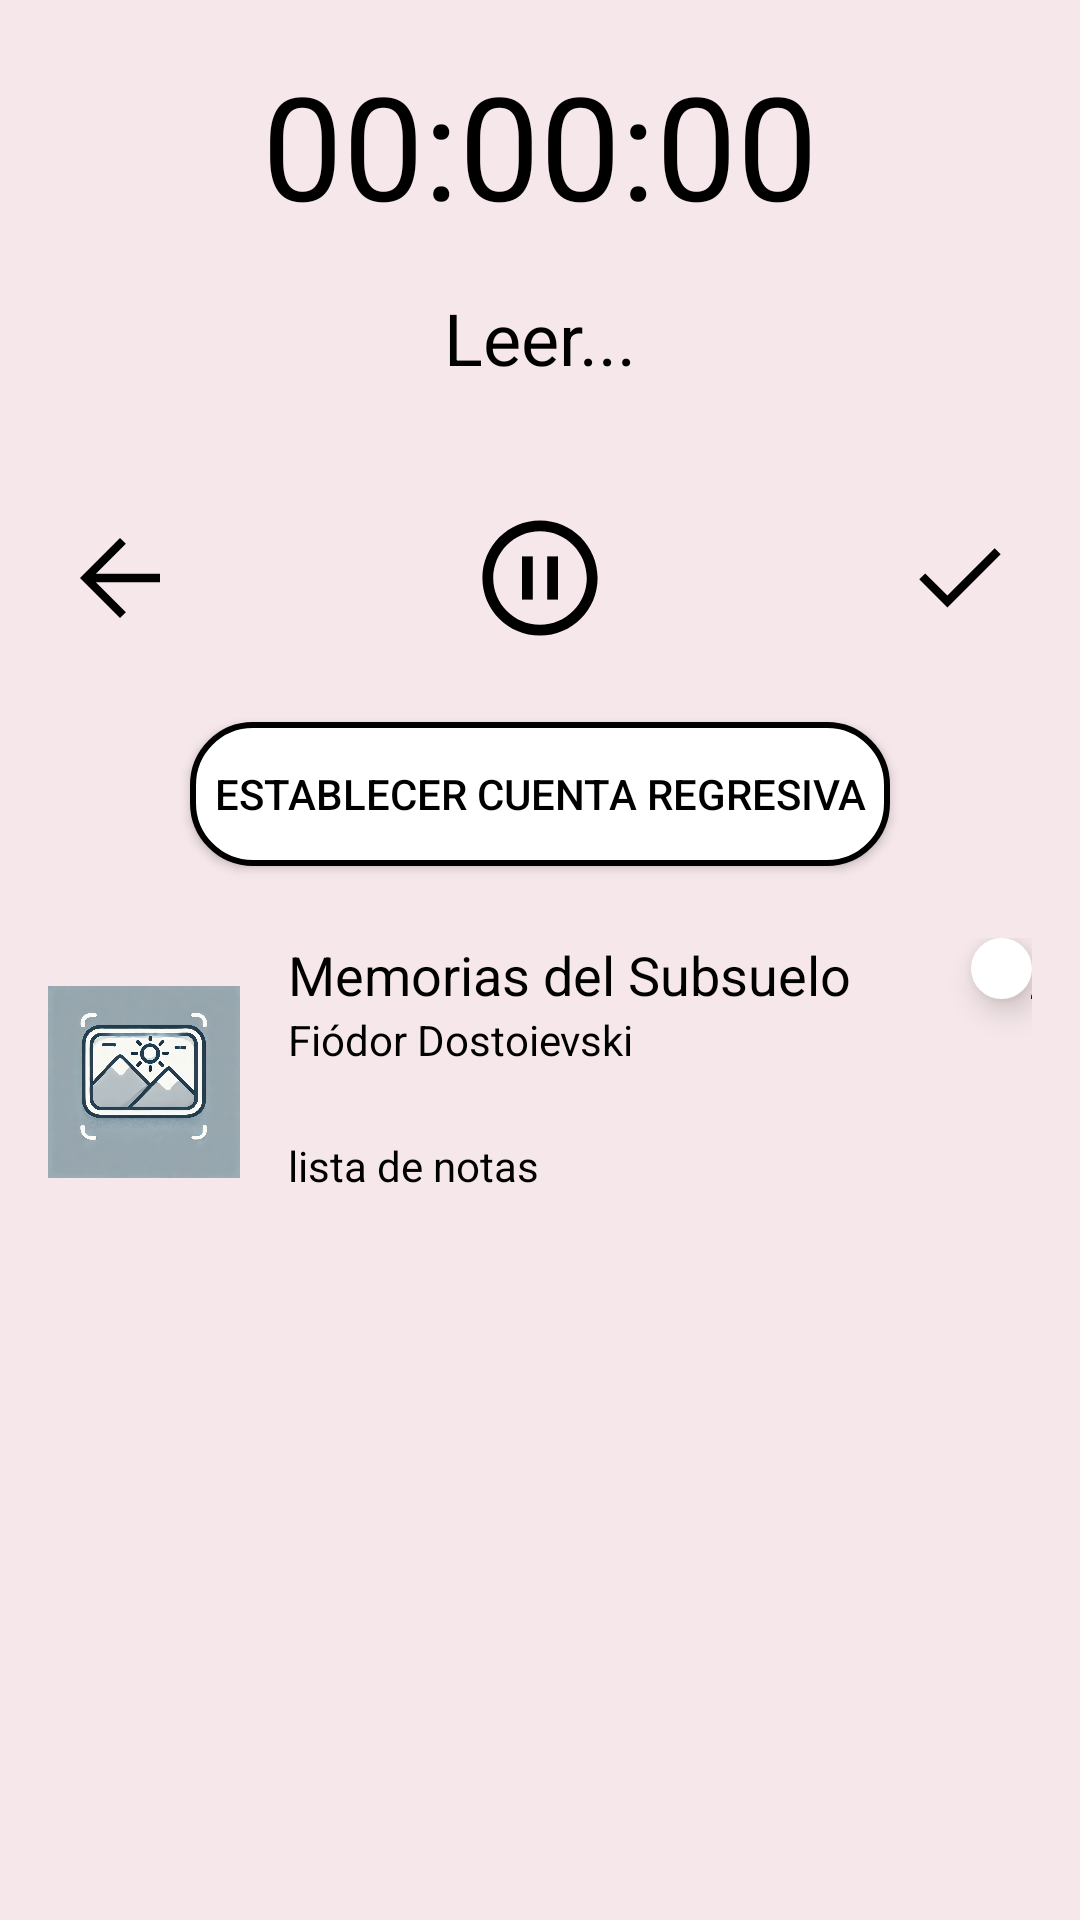

Screen size 1080px×1920px. Icon name, then its box in pixels as (x1, y1, x2, y2):
arrow back: (80, 538, 160, 618)
check: (919, 548, 1001, 608)
pause: (482, 520, 598, 636)
